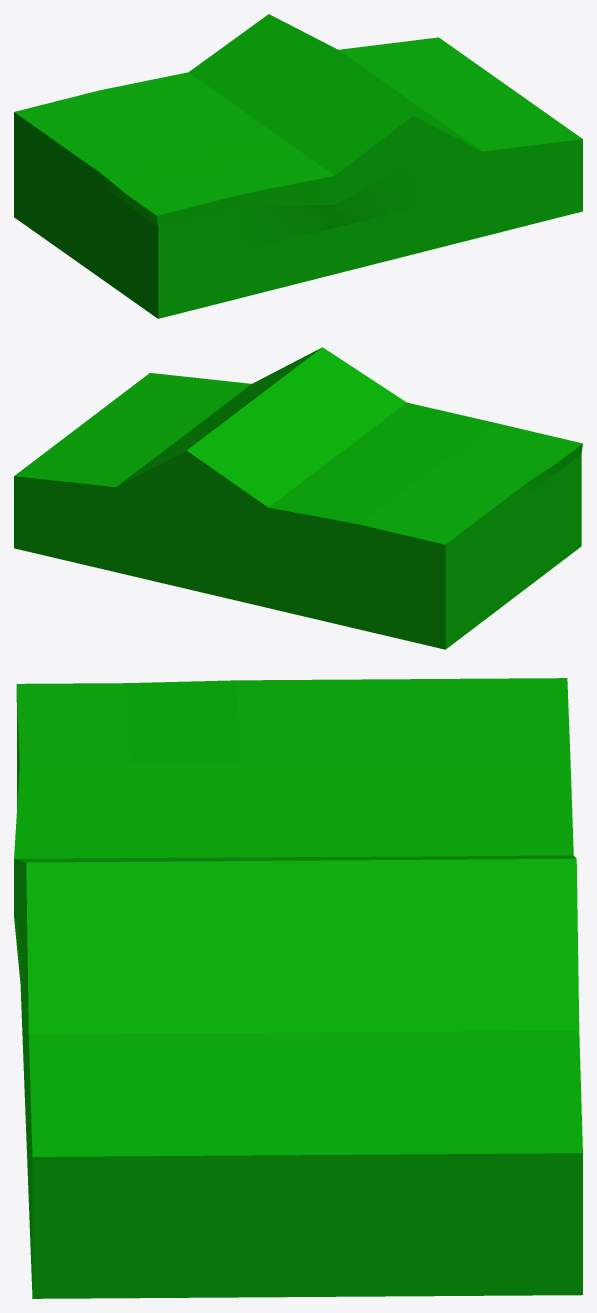
Rendered from alligator_head.fbx.
3 views of the same model, one above another, from view 1: azimuth 30°, elevation 25°; view 2: azimuth 150°, elevation 25°; view 3: azimuth 270°, elevation 25° (orthographic). The views are drawn at different scales.
Visible parts, largest first — view 1: transform1; view 2: transform1; view 3: transform1.
Boxes of the visible parts, box(x1,y1,x2,y2) form: transform1: box(14, 14, 582, 318); transform1: box(14, 347, 582, 649); transform1: box(14, 678, 582, 1298).
Bounding box in the file's own units: 0.4642 × 0.1422 × 0.2694.
